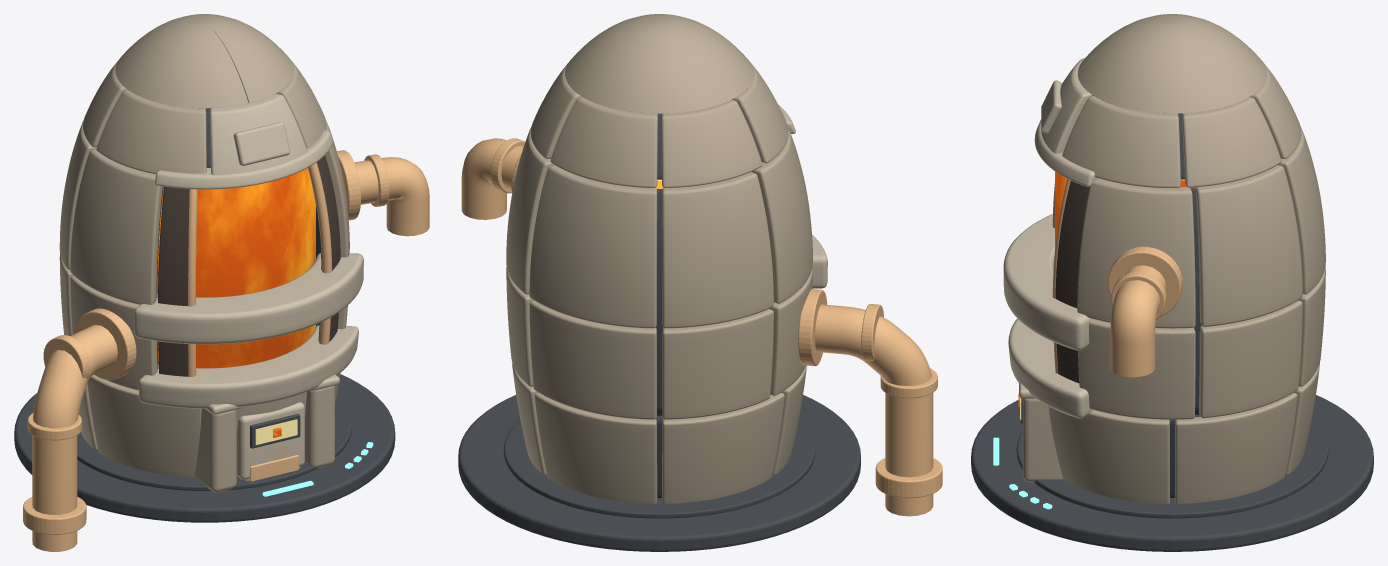
File: reactor.glb
3 renders of one model, left to right at view 1: azimuth 30°, elevation 25°; view 2: azimuth 150°, elevation 25°; view 3: azimuth 270°, elevation 25°, orthographic. The views are drawn at different scales.
Parts seen in each view (by area): view 1: flame_core, reactor_base, reactor_shell_cap, reactor_shell_2_4, reactor_rib_big, reactor_pipe_left, reactor_rib_low, reactor_shell_0_5, reactor_shell_3_5, reactor_jamb_-1, reactor_shell_3_0, reactor_pipe_right (+26 smaller); view 2: reactor_base, reactor_shell_2_2, reactor_shell_2_3, reactor_shell_cap, reactor_shell_1_2, reactor_shell_1_3, reactor_shell_0_4, reactor_shell_0_3, reactor_pipe_left, reactor_shell_3_3, reactor_base_top, reactor_shell_3_4 (+16 smaller); view 3: reactor_base, reactor_shell_cap, reactor_shell_2_1, reactor_shell_2_0, reactor_shell_0_2, reactor_shell_1_1, reactor_shell_0_1, reactor_shell_3_1, reactor_shell_1_0, reactor_shell_3_2, reactor_rib_big, reactor_base_top (+16 smaller).
Boxes of the visible parts, left/top/right/bottom form: flame_core: left=157, top=168, right=315, bottom=368; reactor_base: left=14, top=374, right=395, bottom=522; reactor_shell_cap: left=115, top=14, right=294, bottom=108; reactor_shell_2_4: left=70, top=149, right=162, bottom=304; reactor_rib_big: left=134, top=253, right=363, bottom=344; reactor_pipe_left: left=32, top=324, right=117, bottom=551; reactor_rib_low: left=138, top=325, right=358, bottom=408; reactor_shell_0_5: left=87, top=374, right=201, bottom=476; reactor_shell_3_5: left=96, top=89, right=206, bottom=174; reactor_jamb_-1: left=158, top=186, right=189, bottom=376; reactor_shell_3_0: left=209, top=93, right=307, bottom=175; reactor_pipe_right: left=354, top=157, right=429, bottom=236; reactor_base: left=458, top=395, right=860, bottom=551; reactor_shell_2_2: left=529, top=165, right=657, bottom=328; reactor_shell_2_3: left=662, top=172, right=773, bottom=328; reactor_shell_cap: left=565, top=14, right=754, bottom=113; reactor_shell_1_2: left=529, top=300, right=656, bottom=419; reactor_shell_1_3: left=662, top=309, right=773, bottom=419; reactor_shell_0_4: left=662, top=393, right=784, bottom=503; reactor_shell_0_3: left=534, top=393, right=657, bottom=503; reactor_pipe_left: left=815, top=304, right=933, bottom=516; reactor_shell_3_3: left=550, top=97, right=657, bottom=187; reactor_base_top: left=503, top=419, right=815, bottom=518; reactor_shell_3_4: left=661, top=99, right=762, bottom=187; reactor_base: left=971, top=395, right=1373, bottom=551; reactor_shell_cap: left=1077, top=14, right=1266, bottom=113; reactor_shell_2_1: left=1195, top=165, right=1302, bottom=326; reactor_shell_2_0: left=1077, top=178, right=1195, bottom=328; reactor_shell_0_2: left=1174, top=392, right=1297, bottom=503; reactor_shell_1_1: left=1199, top=300, right=1302, bottom=418; reactor_shell_0_1: left=1048, top=406, right=1170, bottom=503; reactor_shell_3_1: left=1062, top=96, right=1180, bottom=187; reactor_shell_1_0: left=1078, top=319, right=1195, bottom=419; reactor_shell_3_2: left=1182, top=97, right=1281, bottom=187; reactor_rib_big: left=1003, top=214, right=1092, bottom=350; reactor_base_top: left=1016, top=420, right=1328, bottom=518.
Size of the model in its own units: 4.31 by 4.28 by 3.36.
Materials: 8 (1 with a texture image).
